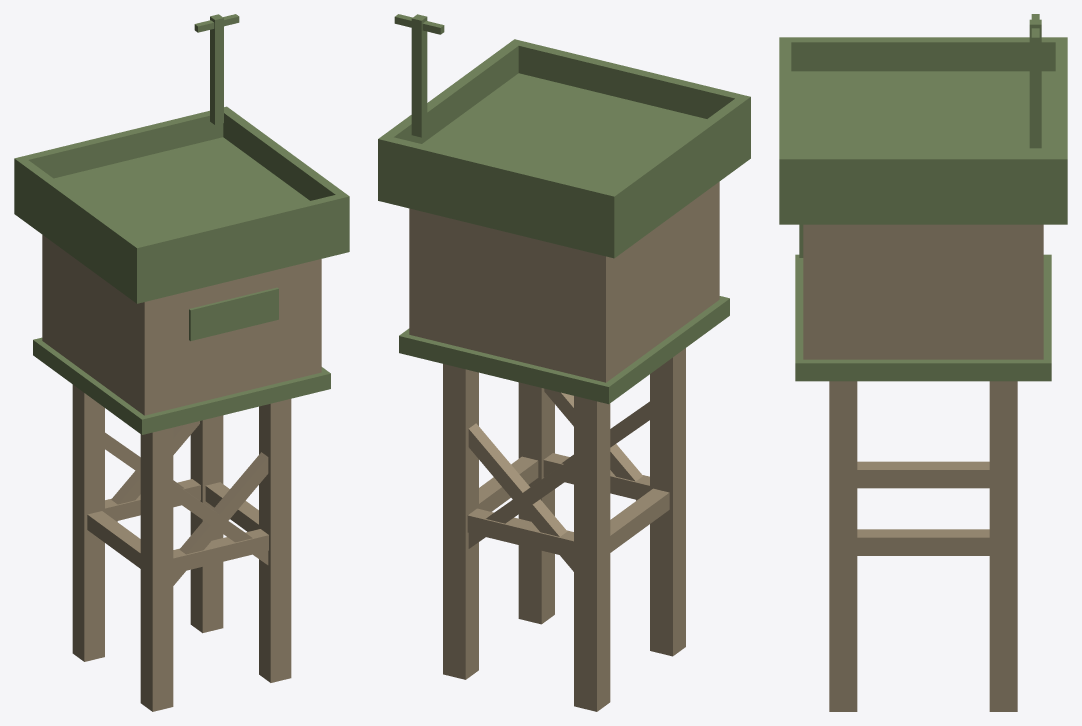
Rendered from watch_tower.glb.
3 renders of one model, left to right at view 1: azimuth 30°, elevation 25°; view 2: azimuth 150°, elevation 25°; view 3: azimuth 270°, elevation 25°, orthographic. The views are drawn at different scales.
Visible parts, largest first — view 1: WatchTower, accent_WatchTower, chunk_4, chunk_3, chunk_2, chunk_1; view 2: WatchTower, accent_WatchTower, chunk_2, chunk_1, chunk_4, chunk_3; view 3: accent_WatchTower, WatchTower.
Boxes of the visible parts, x1=… form: WatchTower: x1=42, y1=235, x2=321, y2=711; accent_WatchTower: x1=14, y1=14, x2=349, y2=434; chunk_4: x1=173, y1=452, x2=268, y2=585; chunk_3: x1=173, y1=482, x2=268, y2=564; chunk_2: x1=111, y1=421, x2=199, y2=521; chunk_1: x1=105, y1=432, x2=184, y2=488; WatchTower: x1=409, y1=182, x2=719, y2=711; accent_WatchTower: x1=378, y1=14, x2=750, y2=404; chunk_2: x1=468, y1=423, x2=573, y2=571; chunk_1: x1=468, y1=457, x2=573, y2=548; chunk_4: x1=544, y1=388, x2=642, y2=500; chunk_3: x1=561, y1=401, x2=649, y2=463; accent_WatchTower: x1=779, y1=14, x2=1067, y2=381; WatchTower: x1=803, y1=224, x2=1043, y2=711.
Bounding box in the file's own units: 0.72 × 1.92 × 0.72.
